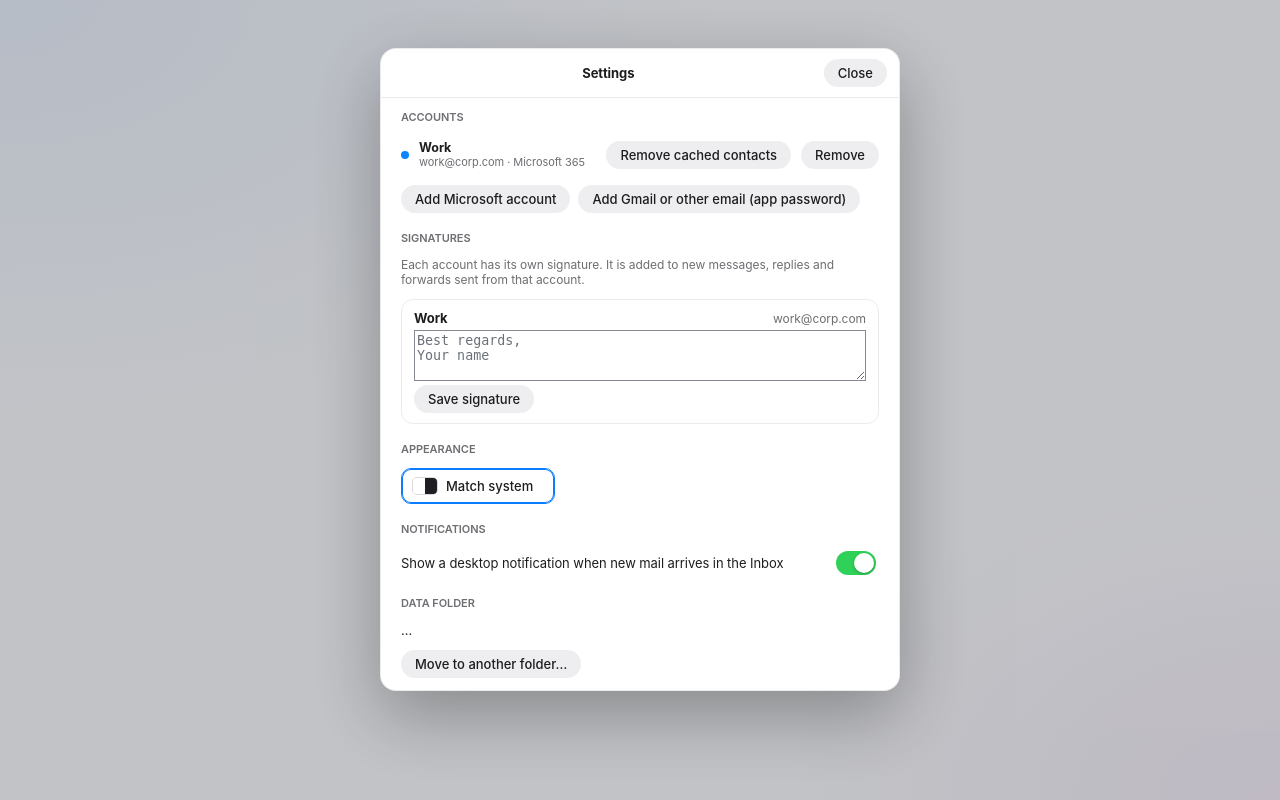
Test: Settings → Accounts › toggles the app-password form, scrolling to it and focusing the address field
Click the button "Add Gmail or other email (app password)".
click(719, 199)  # box [578,185,860,213]
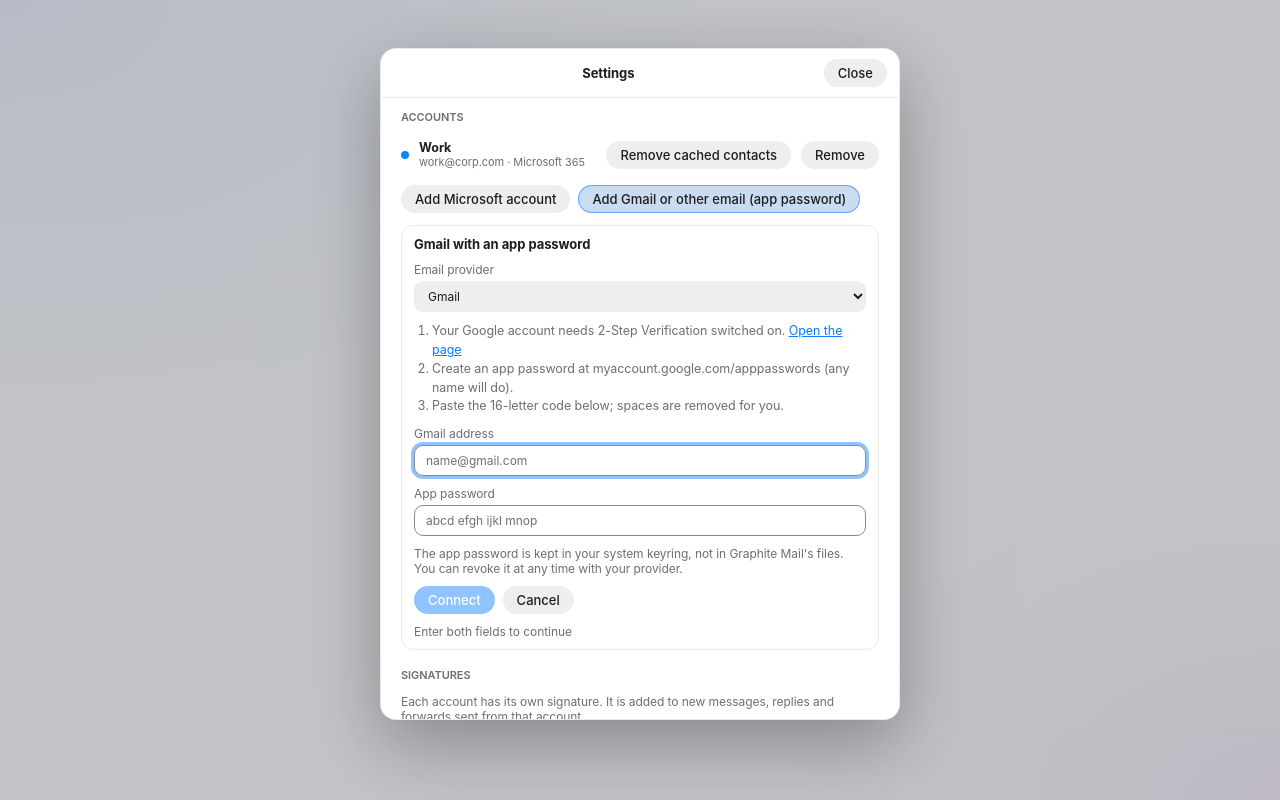
expect the button "Add Gmail or other email (app password)" is expanded: met
expect the form named "Email with an app password" is shown: met, box [414,236,866,639]
Click the button "Add Gmail or other email (app password)".
click(719, 199)  # box [578,185,860,213]
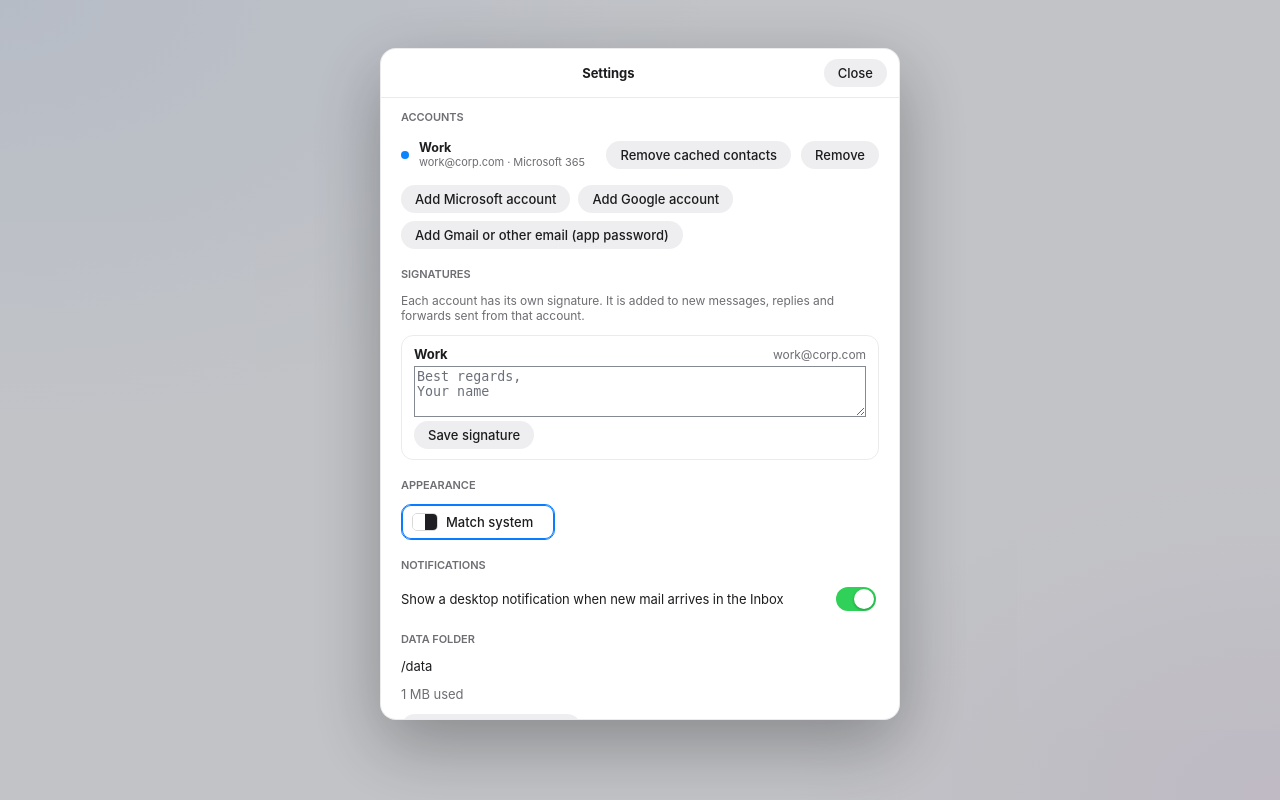
expect the list "Email with an app password" is gone: met
expect the button "Add Gmail or other email (app password)" is collapsed: met, box [401,221,683,249]
